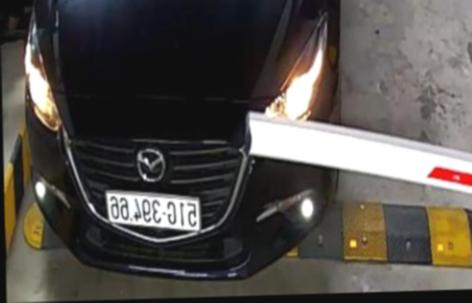License_Plate: (98, 184, 207, 234)
